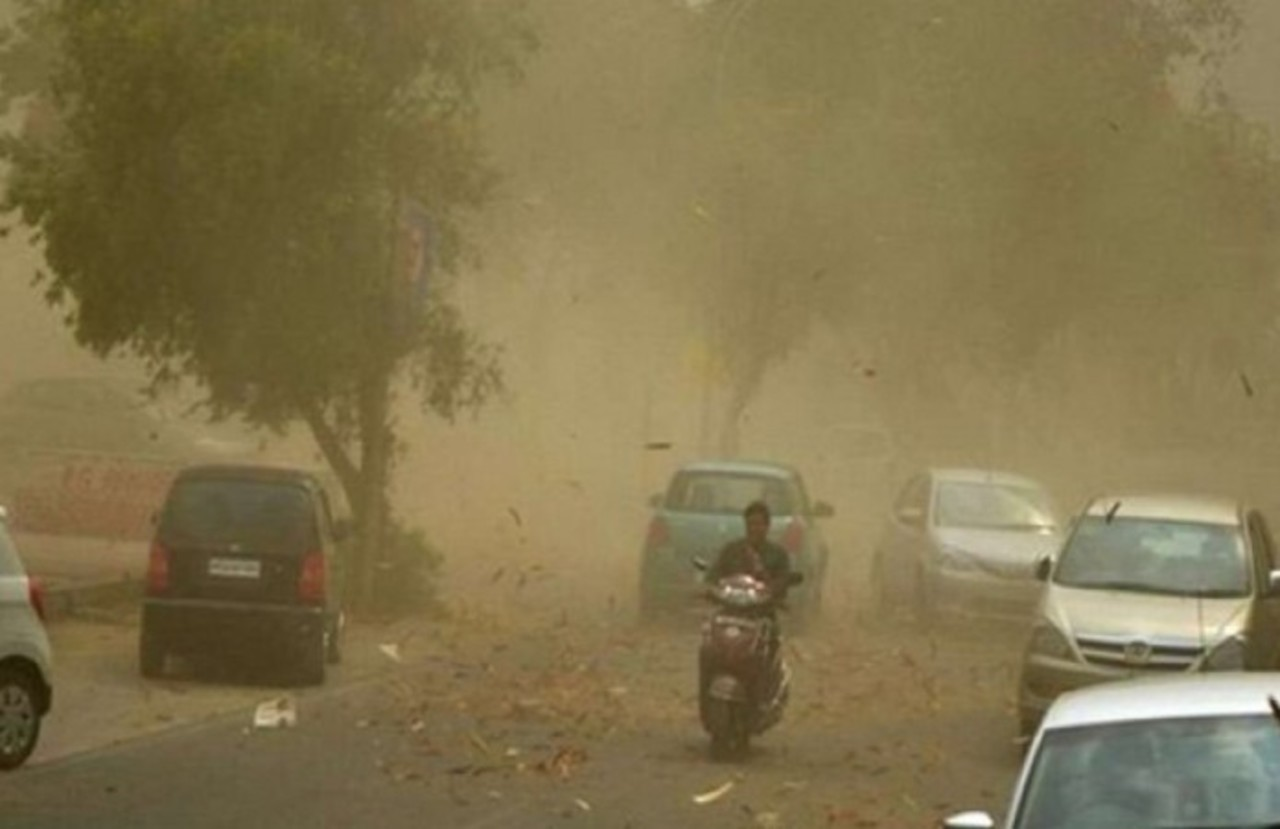car: (1018, 494, 1263, 706), (133, 464, 350, 685), (980, 670, 1279, 827), (887, 464, 1063, 630), (643, 460, 827, 608), (7, 369, 266, 459), (6, 491, 65, 773), (811, 424, 900, 499)
motorcycle: (691, 566, 796, 760)
person: (691, 489, 805, 698)
